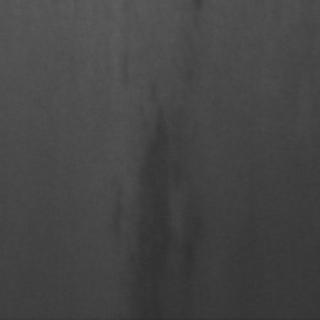inclusion: (124, 66, 200, 314), (110, 40, 138, 106)
